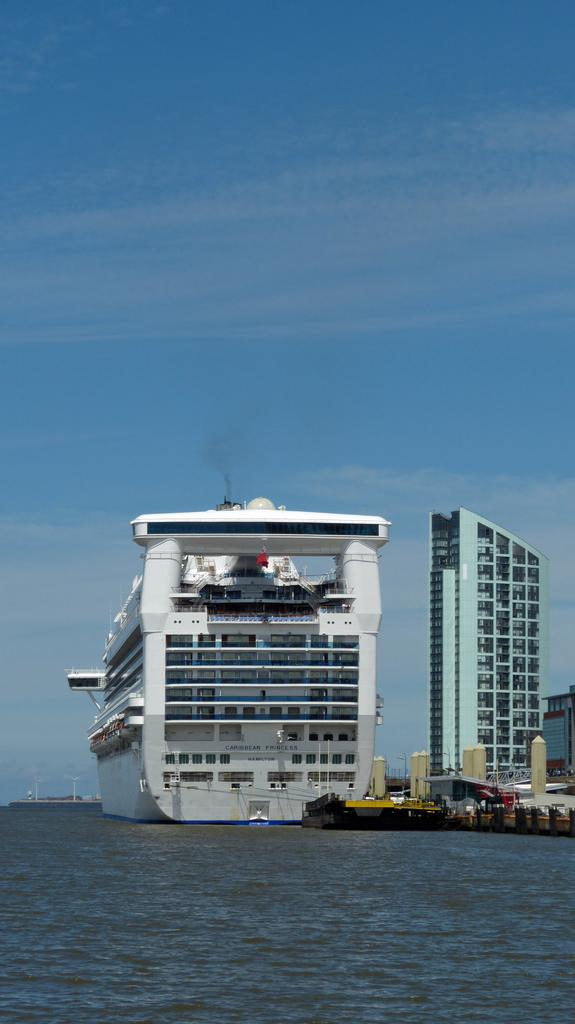PassengerShip: (61, 475, 415, 835)
